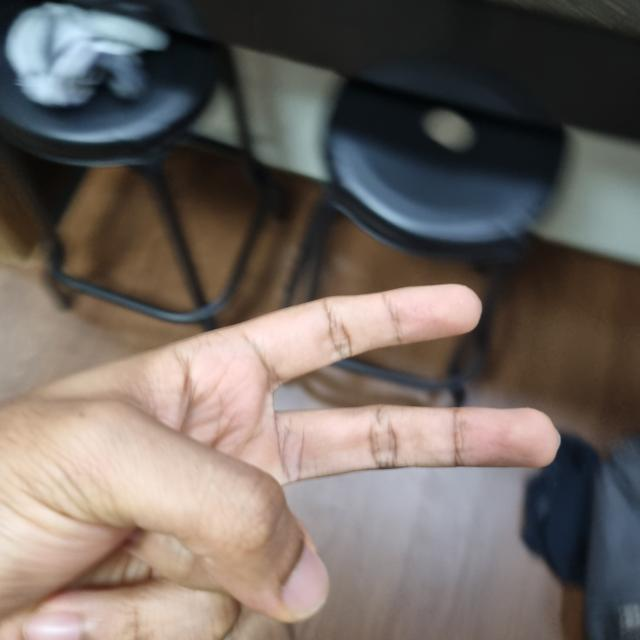Scissors: (0, 288, 557, 640)
